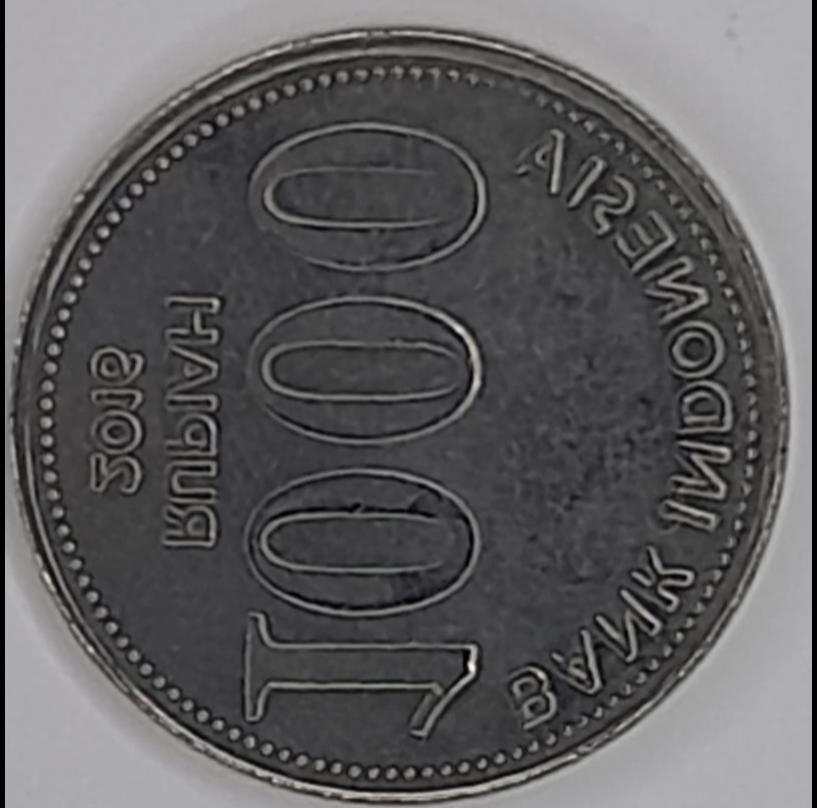coin_1000_e2016: (14, 16, 806, 808)
